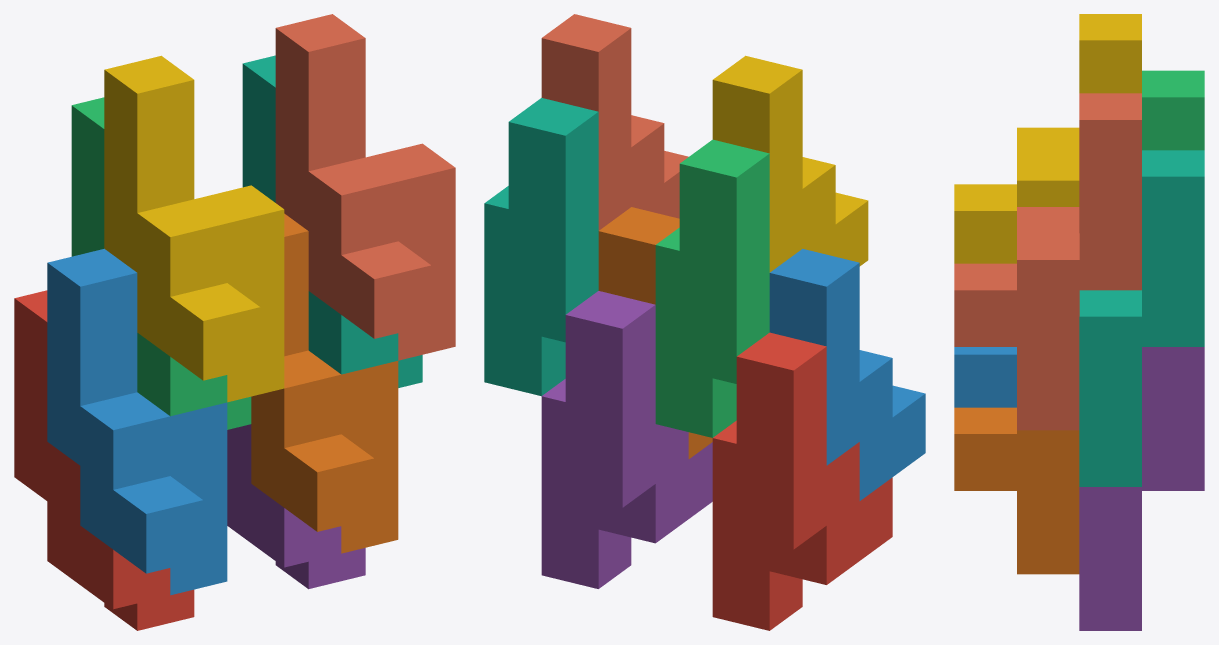
The model's file is tiling.obj.
3 views of the same model, side by side, from view 1: azimuth 30°, elevation 25°; view 2: azimuth 150°, elevation 25°; view 3: azimuth 270°, elevation 25° (orthographic). The views are drawn at different scales.
Parts seen in each view (by area): view 1: copy_1_domain_4, copy_1_domain_8, copy_1_domain_2, copy_1_domain_6, copy_1_domain_1, copy_1_domain_3, copy_1_domain_7, copy_1_domain_5; view 2: copy_1_domain_1, copy_1_domain_5, copy_1_domain_7, copy_1_domain_3, copy_1_domain_2, copy_1_domain_4, copy_1_domain_8, copy_1_domain_6; view 3: copy_1_domain_8, copy_1_domain_7, copy_1_domain_5, copy_1_domain_4, copy_1_domain_6, copy_1_domain_3, copy_1_domain_2.
Part boxes in pixels (x1=…): copy_1_domain_4: x1=104, y1=55, x2=284, y2=402; copy_1_domain_8: x1=275, y1=14, x2=455, y2=360; copy_1_domain_2: x1=47, y1=248, x2=227, y2=595; copy_1_domain_6: x1=251, y1=213, x2=398, y2=553; copy_1_domain_1: x1=14, y1=290, x2=194, y2=630; copy_1_domain_3: x1=71, y1=97, x2=251, y2=429; copy_1_domain_7: x1=242, y1=55, x2=422, y2=387; copy_1_domain_5: x1=227, y1=424, x2=365, y2=589; copy_1_domain_1: x1=712, y1=332, x2=892, y2=630; copy_1_domain_5: x1=541, y1=291, x2=712, y2=588; copy_1_domain_7: x1=484, y1=98, x2=598, y2=396; copy_1_domain_3: x1=655, y1=139, x2=769, y2=437; copy_1_domain_2: x1=769, y1=248, x2=925, y2=500; copy_1_domain_4: x1=712, y1=55, x2=868, y2=272; copy_1_domain_8: x1=541, y1=14, x2=688, y2=230; copy_1_domain_6: x1=598, y1=207, x2=712, y2=458; copy_1_domain_8: x1=954, y1=93, x2=1141, y2=430; copy_1_domain_7: x1=1079, y1=150, x2=1204, y2=486; copy_1_domain_5: x1=1079, y1=347, x2=1204, y2=630; copy_1_domain_4: x1=954, y1=14, x2=1141, y2=263; copy_1_domain_6: x1=954, y1=407, x2=1079, y2=574; copy_1_domain_3: x1=1142, y1=70, x2=1204, y2=150; copy_1_domain_2: x1=954, y1=347, x2=1016, y2=407.
Size of the model in its own units: 6 by 9 by 4.
